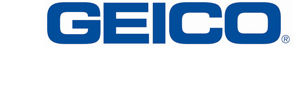geico: (44, 1, 291, 47)
